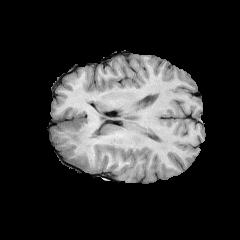glioma: (52, 110, 114, 154)
